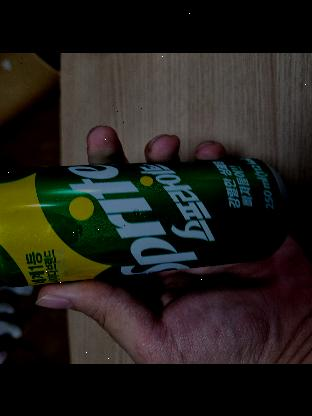Can: (0, 146, 290, 292)
